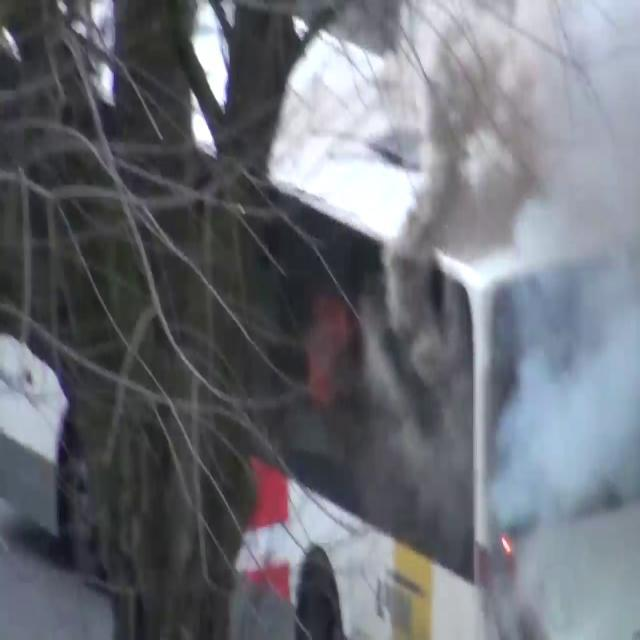Smoke: (378, 0, 640, 620)
